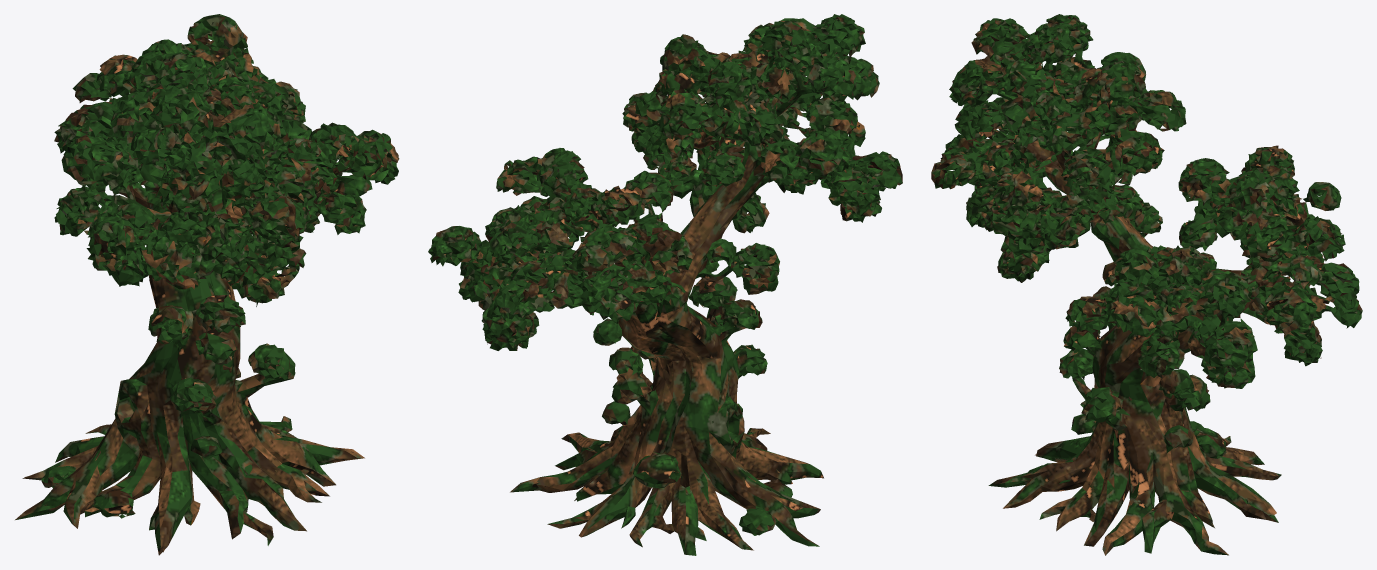
The model's file is SMITA0.obj.
The picture shows the model from 3 angles, left to right: view 1: azimuth 30°, elevation 25°; view 2: azimuth 150°, elevation 25°; view 3: azimuth 270°, elevation 25°; orthographic projection. The views are drawn at different scales.
Parts seen in each view (by area): view 1: geometry_0; view 2: geometry_0; view 3: geometry_0.
Boxes of the visible parts, x1,y1,x2,y2 form: geometry_0: (15,14,399,555); geometry_0: (428,14,902,555); geometry_0: (931,14,1362,555).
Size of the model in its own units: 0.7934 by 0.9955 by 0.8671.
1 material, 1 textured.
